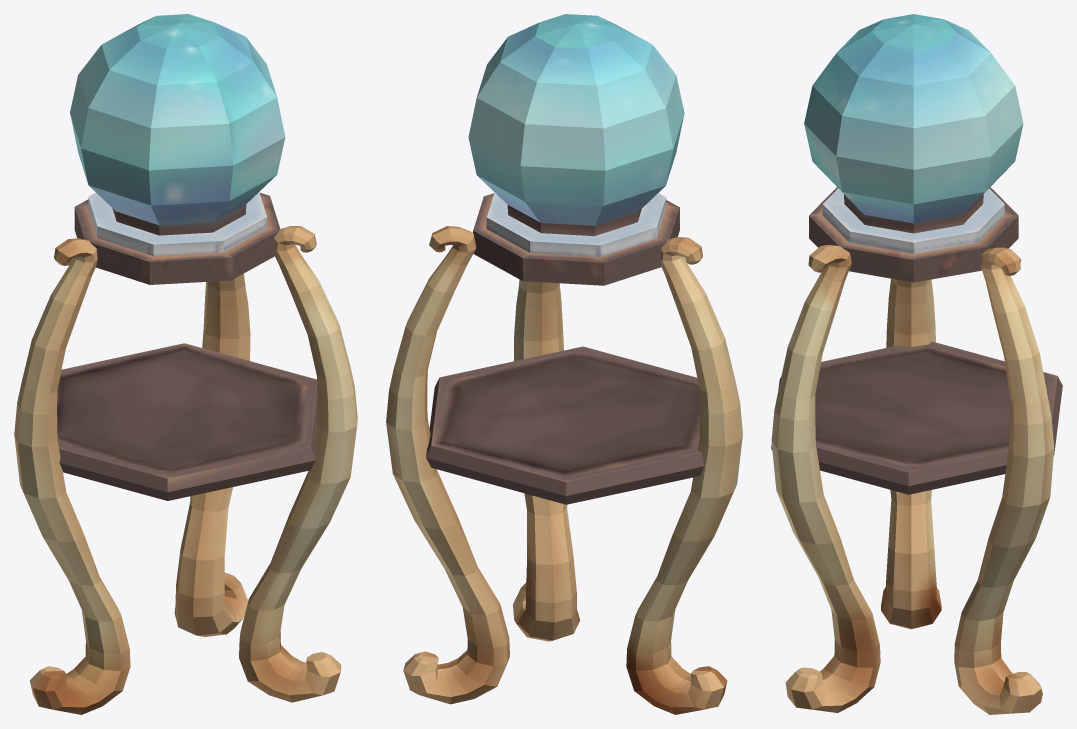
File: crystalBall.fbx
3 views of the same model, side by side, from view 1: azimuth 30°, elevation 25°; view 2: azimuth 150°, elevation 25°; view 3: azimuth 270°, elevation 25° (orthographic).
Parts seen in each view (by area): view 1: bolaCristal; view 2: bolaCristal; view 3: bolaCristal.
Part boxes in pixels (x1,y1,x2,y2): bolaCristal: (14, 14, 357, 714); bolaCristal: (386, 14, 742, 714); bolaCristal: (771, 14, 1062, 714).
Bounding box in the file's own units: 423 × 874 × 356.
